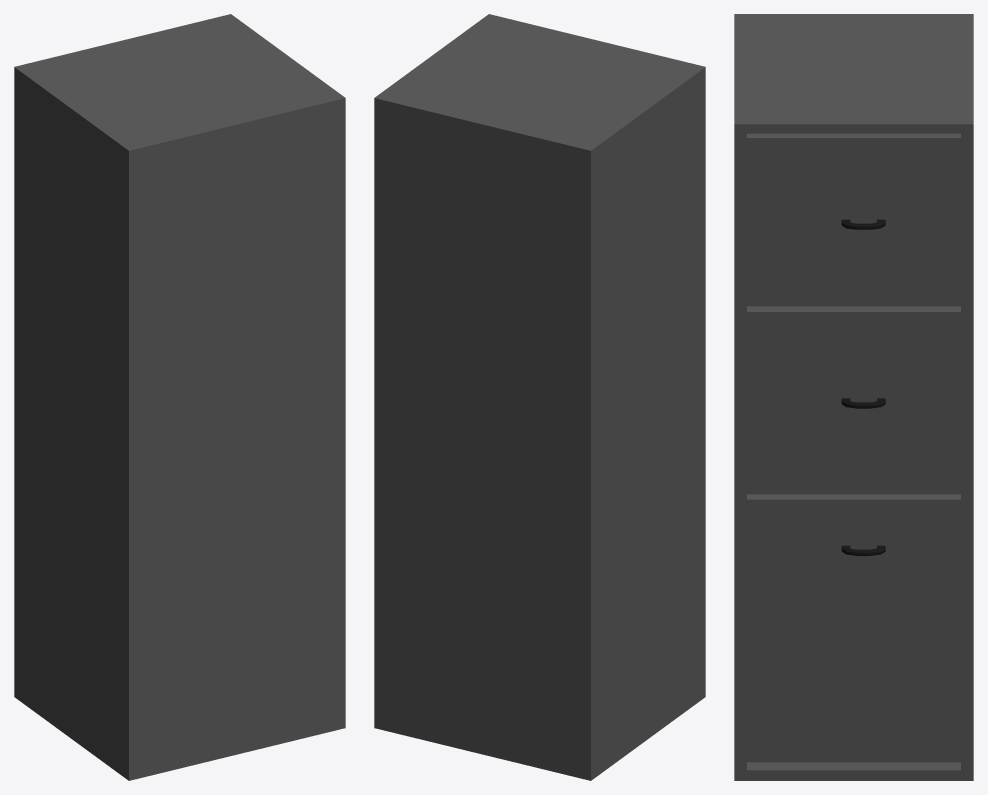
The model's file is drawer2.FBX.
3 renders of one model, left to right at view 1: azimuth 30°, elevation 25°; view 2: azimuth 150°, elevation 25°; view 3: azimuth 270°, elevation 25°, orthographic. The views are drawn at different scales.
Visible parts, largest first — view 1: Box007; view 2: Box007; view 3: Box007.
Boxes of the visible parts, box(x1,y1,x2,y2) form: Box007: box(14, 14, 345, 780); Box007: box(374, 14, 705, 780); Box007: box(734, 14, 973, 780).
Size of the model in its own units: 0.4565 by 1.2 by 0.3948.
